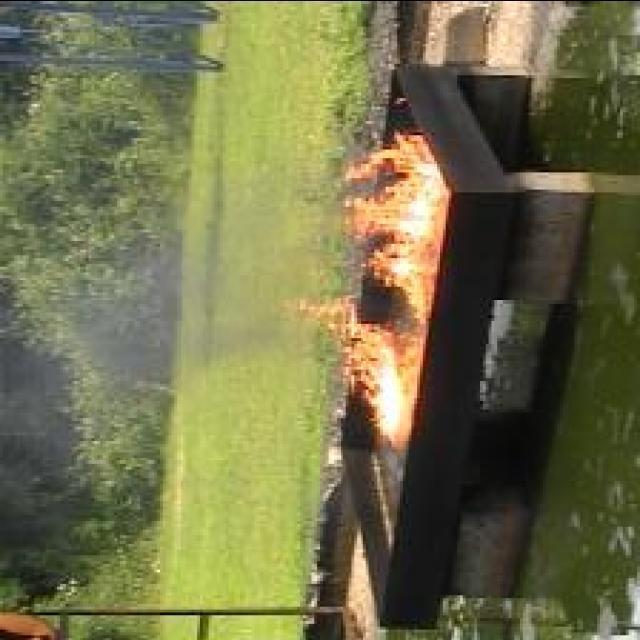Fire: (344, 133, 450, 321), (288, 296, 402, 438)
